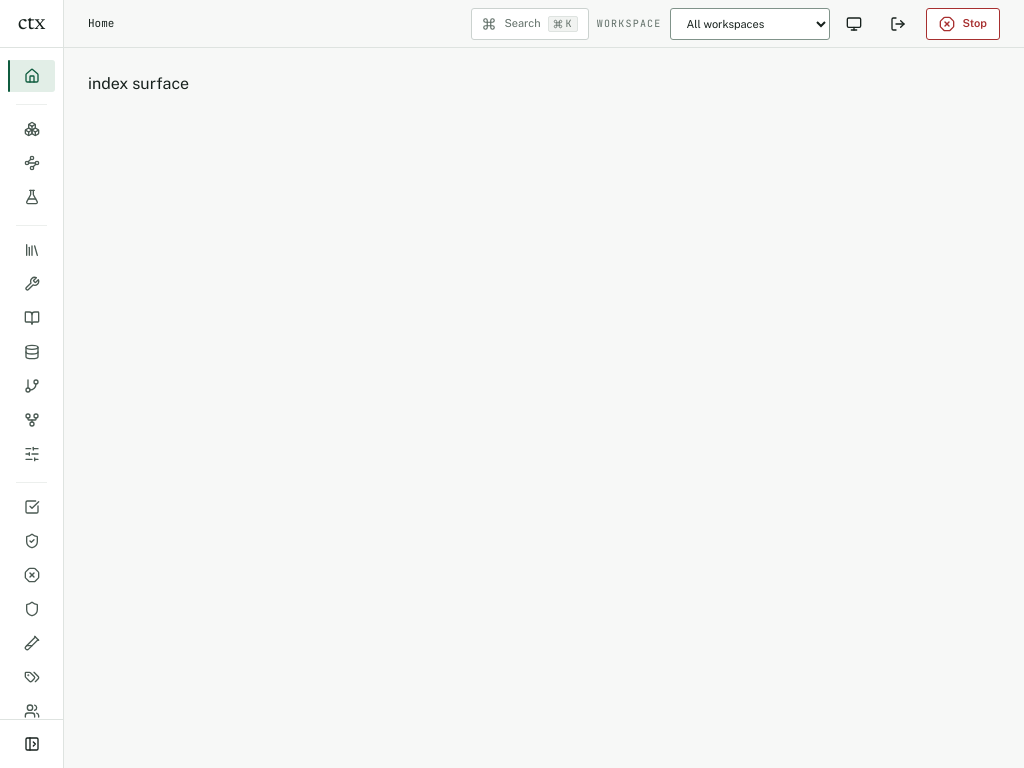
ShellCommandPalette (cmd-K in the production shell) › routes to a destination when a Navigate command is selected
Expected: the link named "Agents" is shown, 24,121 -> 40,137
Expected: the text "index surface" is shown, 88,74 -> 189,93
Press k
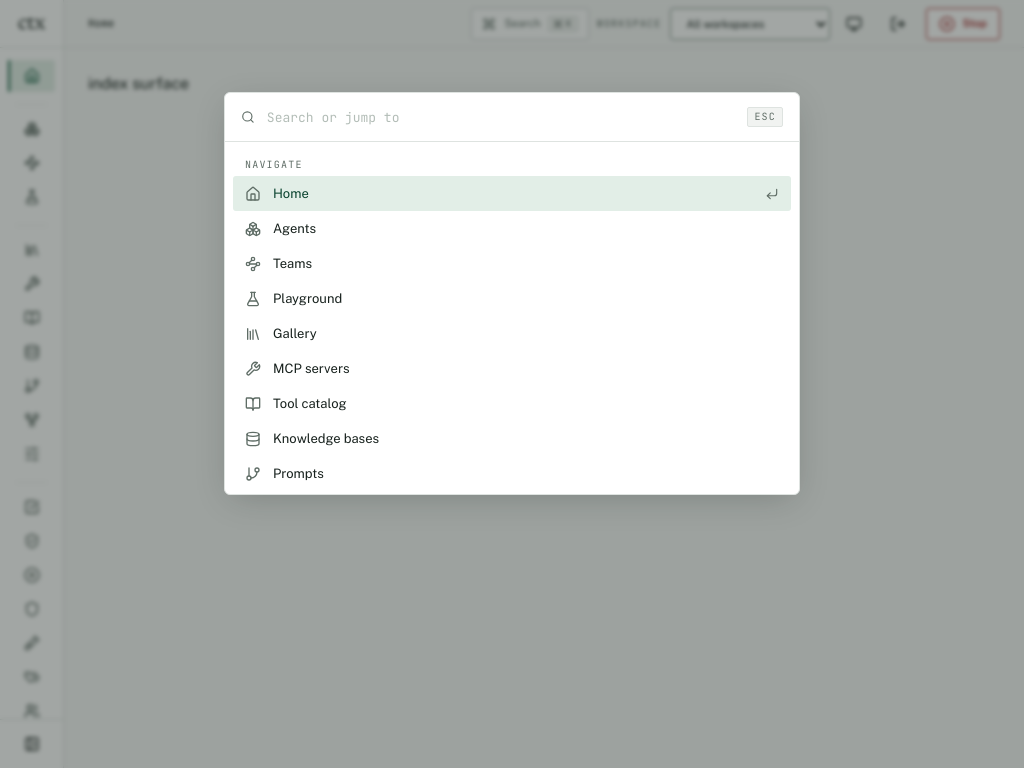
Expected: the dialog named "command palette" is shown
Click the option "Agents". click: (295, 229)
box: 233,211 -> 791,246
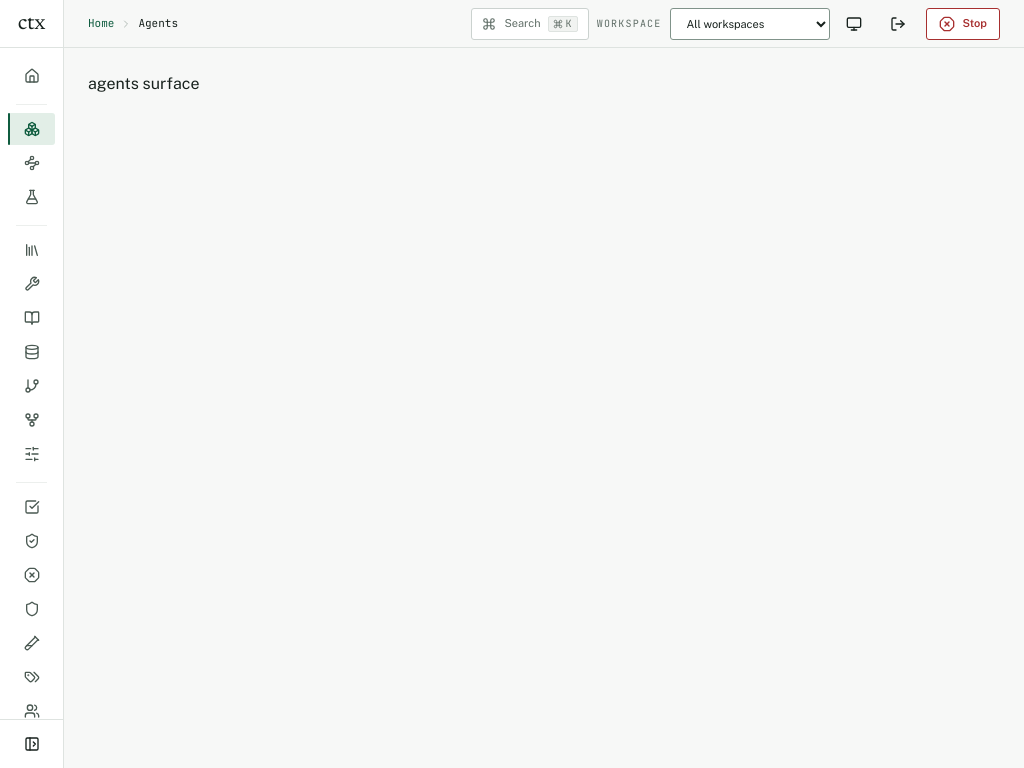
Expected: the text "agents surface" is shown, 88,74 -> 200,93
